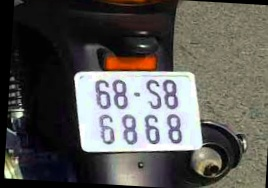Bien-so: (68, 74, 190, 149)
